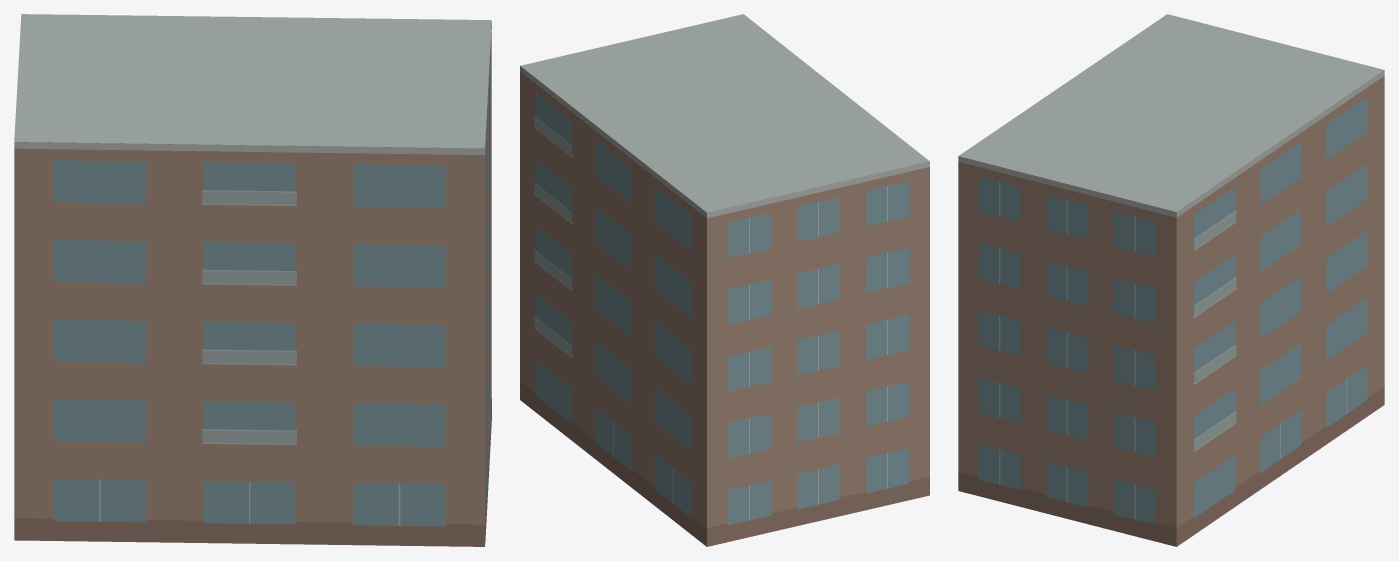
The model's file is survey-upis-32887074.glb.
3 views of the same model, side by side, from view 1: azimuth 30°, elevation 25°; view 2: azimuth 150°, elevation 25°; view 3: azimuth 270°, elevation 25° (orthographic). The views are drawn at different scales.
Visible parts, largest first — view 1: survey-upis-32887074.tmp; view 2: survey-upis-32887074.tmp; view 3: survey-upis-32887074.tmp.
Boxes of the visible parts, x1=… form: survey-upis-32887074.tmp: x1=14, y1=14, x2=491, y2=546; survey-upis-32887074.tmp: x1=520, y1=14, x2=929, y2=546; survey-upis-32887074.tmp: x1=958, y1=14, x2=1384, y2=546.
Size of the model in its own units: 18.32 by 14.43 by 16.66.
